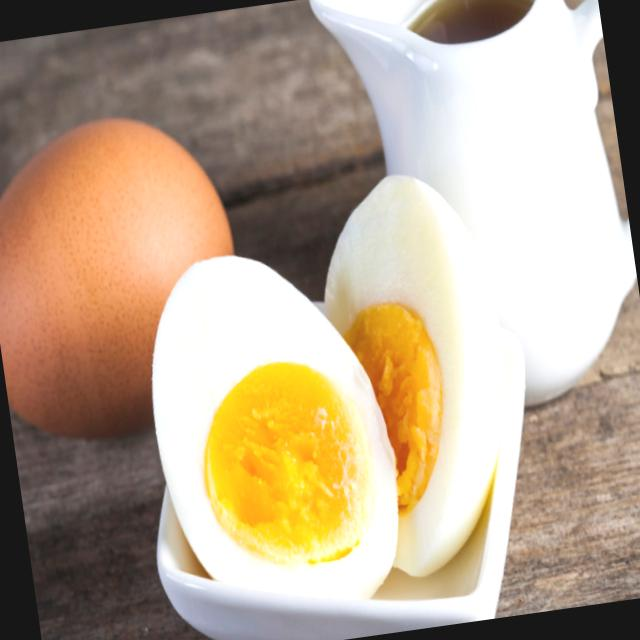trung luoc: (153, 257, 397, 597), (325, 176, 504, 576)
